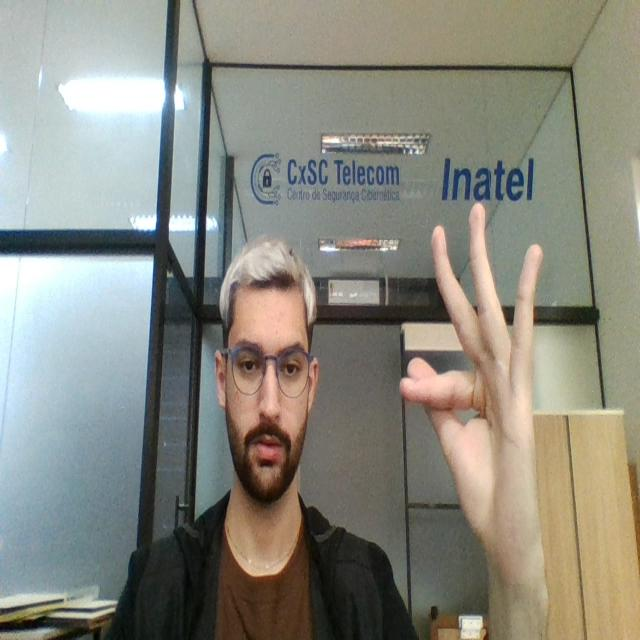F: (395, 197, 554, 564)
